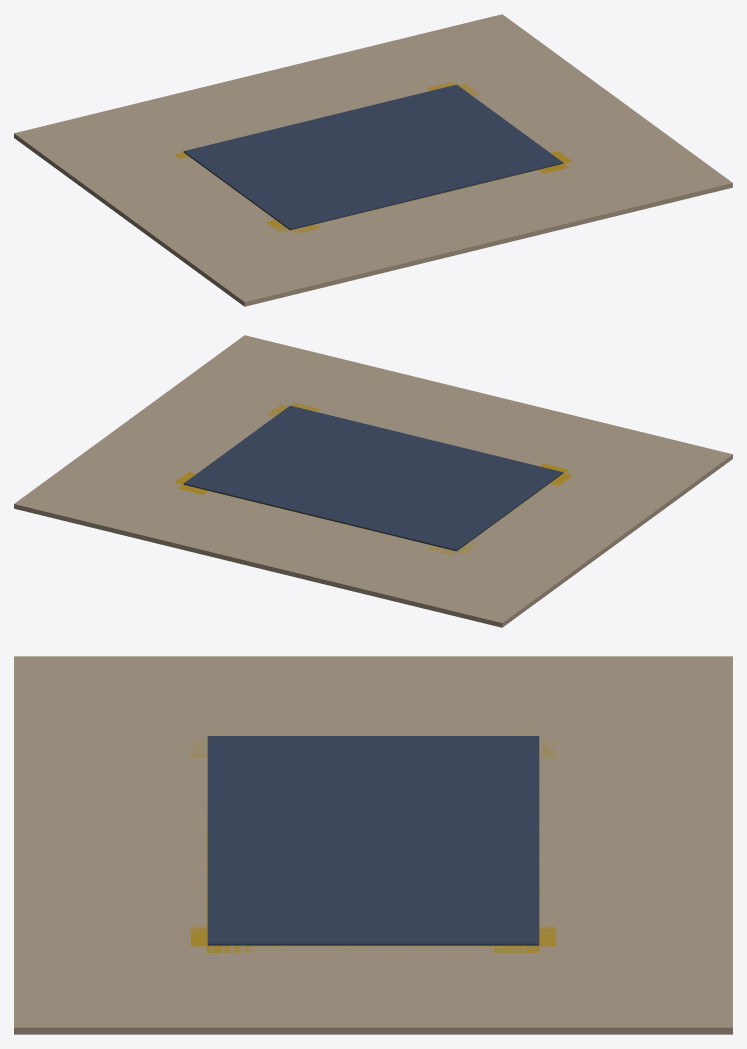
File: stage_02_foundation.glb
3 renders of one model, top to bottom at view 1: azimuth 30°, elevation 25°; view 2: azimuth 150°, elevation 25°; view 3: azimuth 270°, elevation 25°, orthographic. The views are drawn at different scales.
Parts seen in each view (by area): view 1: world; view 2: world; view 3: world.
Part boxes in pixels (x1,y1,x2,y2): world: [14, 14, 732, 306]; world: [14, 335, 732, 627]; world: [14, 656, 732, 1034].
Size of the model in its own units: 11 by 0.83 by 9.
